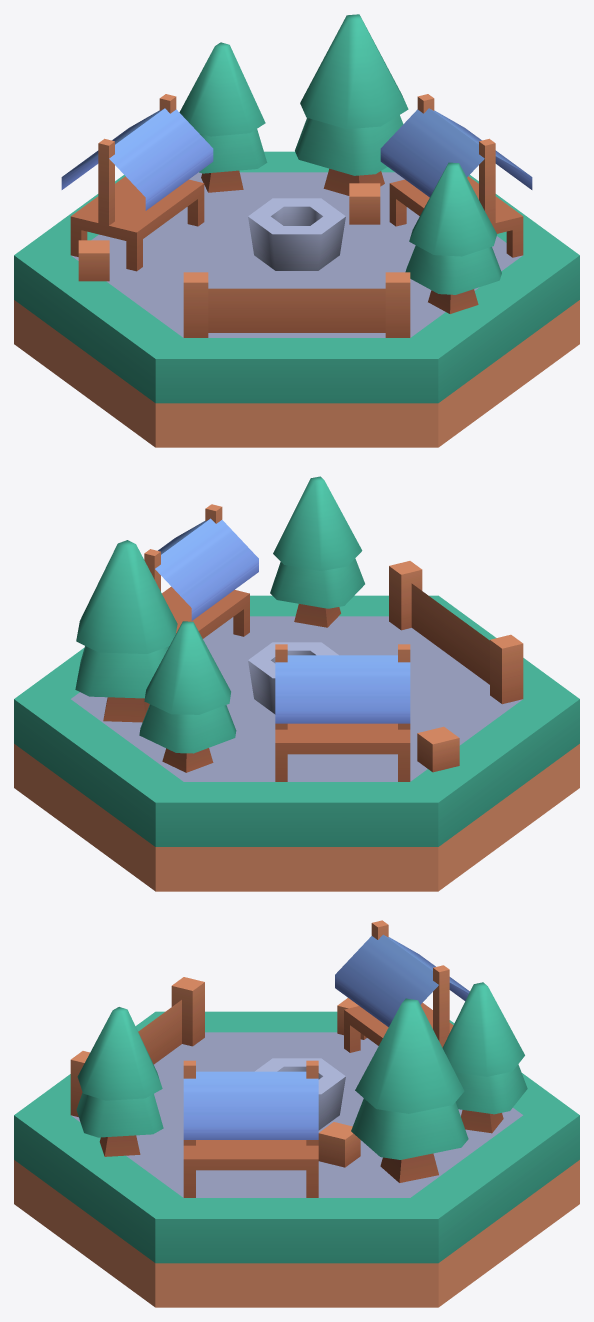
Rendered from kenney-hexagon-building-market.glb.
3 views of the same model, one above another, from view 1: azimuth 30°, elevation 25°; view 2: azimuth 150°, elevation 25°; view 3: azimuth 270°, elevation 25° (orthographic).
Visible parts, largest first — view 1: building_market; view 2: building_market; view 3: building_market.
Part boxes in pixels (x1,y1,x2,y2): building_market: (14,14,579,447); building_market: (14,476,579,891); building_market: (14,920,579,1307).
Size of the model in its own units: 1 by 0.58 by 1.15.
1 material, 1 textured.
